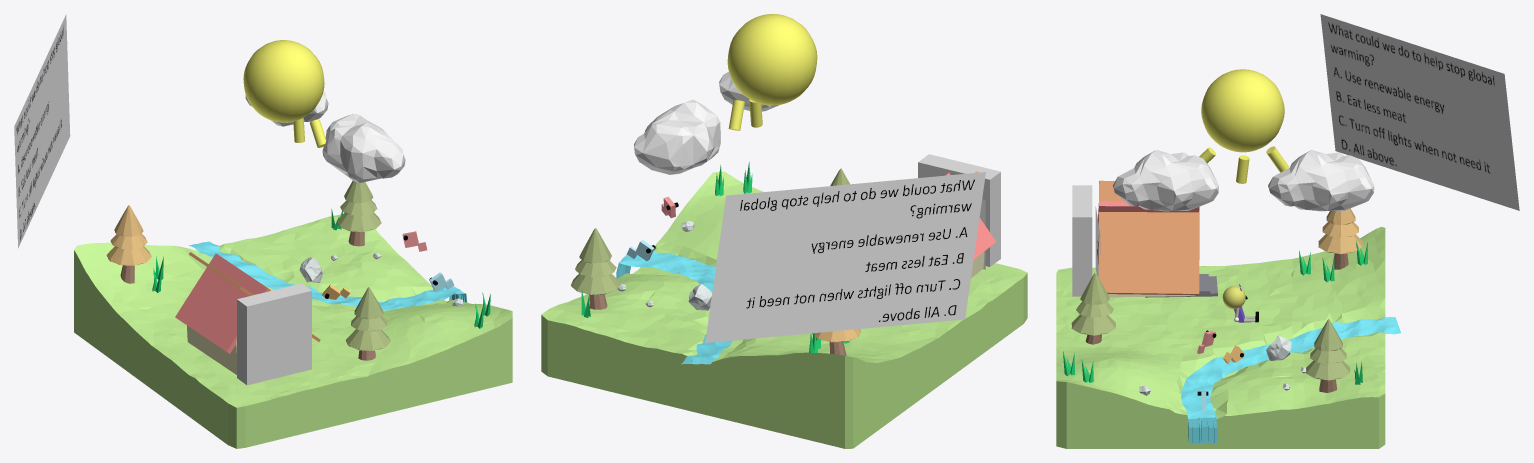
The model's file is sunnyQ6.glb.
The picture shows the model from 3 angles, left to right: view 1: azimuth 30°, elevation 25°; view 2: azimuth 150°, elevation 25°; view 3: azimuth 270°, elevation 25°; orthographic projection. The views are drawn at different scales.
Parts seen in each view (by area): view 1: terrain, pPlane2, Cube, pSphere1, house:pCube6, pPlatonic1, water, house:pCube4, pCylinder1, trees:pCylinder8, trees:pCylinder1, pCylinder4 (+1 smaller); view 2: terrain, pPlane2, pSphere1, clouds:pPlatonic1, Cube, water, trees:pCylinder1, trees:pCylinder4, pPlatonic1, trees:pCylinder3, stone:pPlatonic2, house:pCube6; view 3: terrain, pPlane2, house:pCube5, pSphere1, clouds:pPlatonic1, pPlatonic1, water, Cube, pCylinder1, trees:pCylinder8, trees:pCylinder1, trees:pCylinder4 (+4 smaller).
Boxes of the visible parts, x1,y1,x2,y2 form: terrain: (74, 214, 512, 448); pPlane2: (14, 14, 70, 248); Cube: (237, 283, 311, 385); pSphere1: (243, 40, 324, 122); house:pCube6: (175, 253, 270, 353); pPlatonic1: (322, 113, 405, 182); water: (188, 241, 467, 310); house:pCube4: (187, 325, 236, 374); pCylinder1: (346, 329, 390, 350); trees:pCylinder8: (106, 246, 151, 265); trees:pCylinder1: (336, 212, 381, 231); pCylinder4: (354, 287, 383, 319); terrain: (541, 171, 1027, 448); pPlane2: (705, 172, 985, 342); pSphere1: (727, 14, 817, 105); clouds:pPlatonic1: (634, 99, 720, 174); Cube: (918, 154, 1000, 266); water: (616, 251, 732, 364); trees:pCylinder1: (571, 273, 620, 294); trees:pCylinder4: (579, 228, 611, 263); pPlatonic1: (719, 71, 779, 111); trees:pCylinder3: (575, 260, 616, 277); stone:pPlatonic2: (688, 284, 711, 310); house:pCube6: (945, 173, 996, 259); terrain: (1056, 227, 1385, 448); pPlane2: (1320, 14, 1519, 210); house:pCube5: (1098, 180, 1199, 295); pSphere1: (1201, 69, 1284, 152); clouds:pPlatonic1: (1268, 150, 1374, 211); pPlatonic1: (1112, 150, 1218, 211); water: (1181, 317, 1400, 444); Cube: (1072, 185, 1092, 296); pCylinder1: (1071, 314, 1115, 335); trees:pCylinder8: (1318, 234, 1362, 254); trees:pCylinder1: (1306, 360, 1350, 380); trees:pCylinder4: (1314, 319, 1342, 351).
Size of the model in its own units: 0.4613 by 0.3533 by 0.4738.
Materials: 27 (2 with a texture image).
